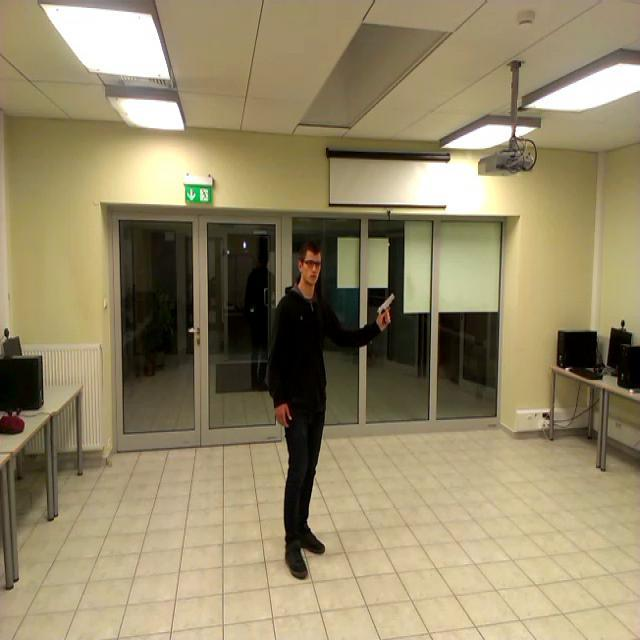Gun: (378, 292, 396, 324)
